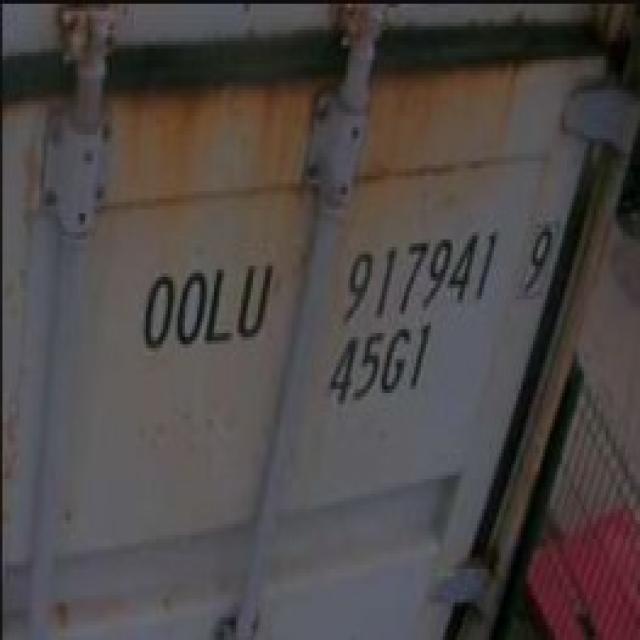dv: (521, 216, 558, 304)
owner: (136, 252, 278, 355)
serial: (329, 224, 503, 332)
size: (321, 320, 441, 410)
